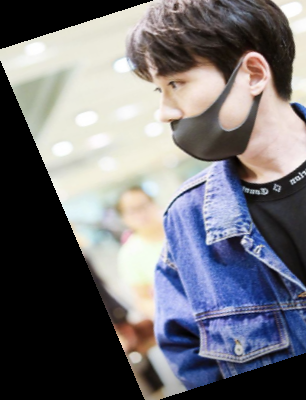mask_weared_incorrect: (111, 1, 306, 165)
